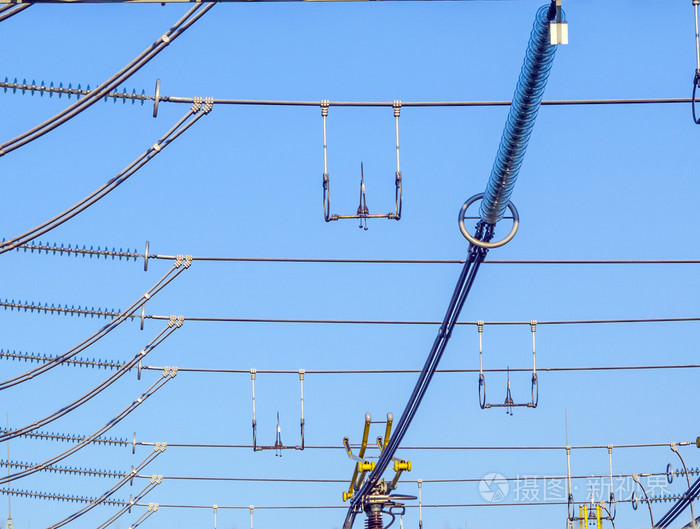insulator: (479, 5, 565, 228), (2, 74, 146, 105), (1, 236, 141, 262), (3, 348, 134, 375), (1, 423, 130, 449), (3, 298, 137, 323), (3, 484, 128, 509), (2, 458, 131, 480)
